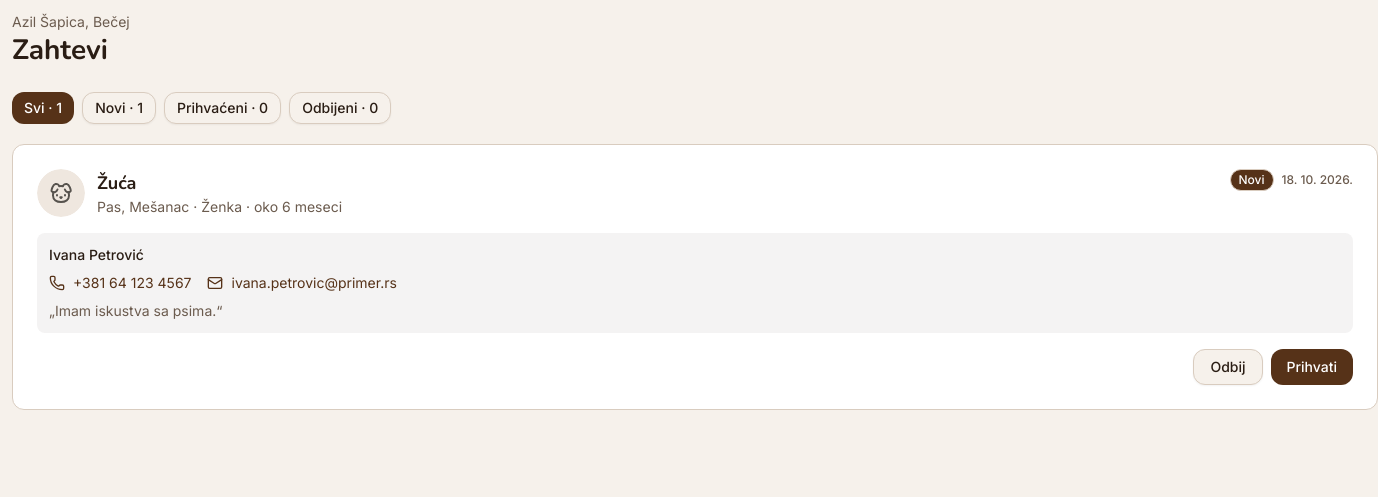
it: S21 default (Admin) › Prihvati (EP-58) shows the status notice and reloads the list
Click the button "Prihvati": click(1312, 367) [1271,349,1353,385]
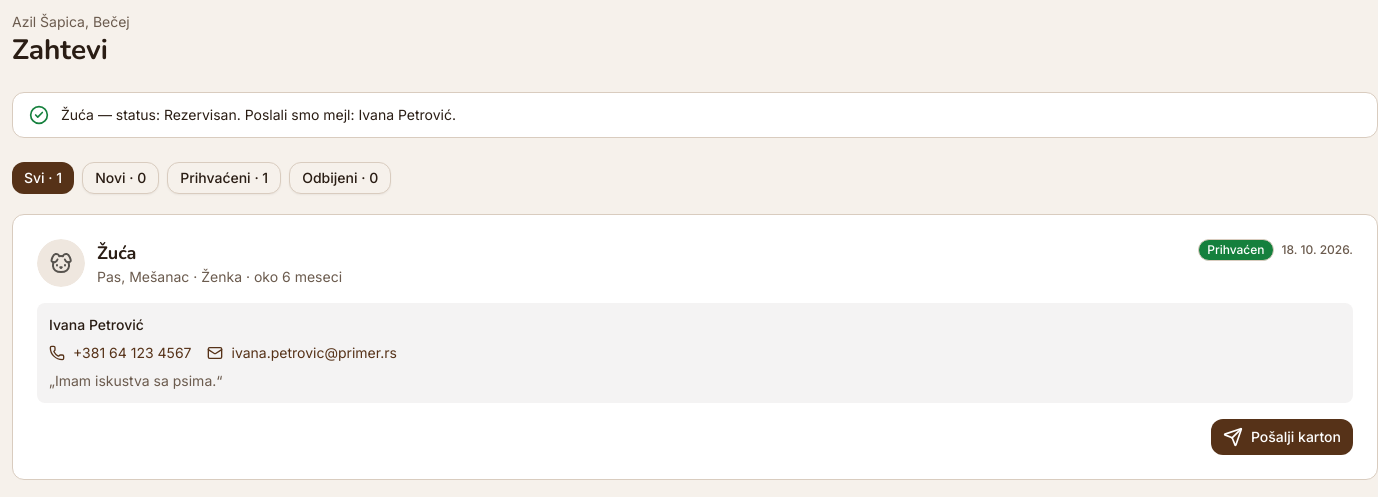
Check: the message reads "Žuća — status: Rezervisan. Poslali smo mejl: Ivana Petrović.", box [61,106,456,123]
Check: the button "Pošalji karton" is shown, box [1211,419,1353,455]
